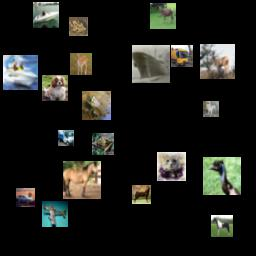airplane: (42, 201, 68, 227)
automobile: (16, 188, 35, 207)
bird: (203, 157, 241, 195)
cat: (157, 152, 186, 181)
deer: (200, 44, 235, 79), (150, 3, 176, 29), (70, 53, 92, 75)
dog: (42, 75, 68, 101), (203, 101, 219, 117)
frog: (82, 91, 111, 120), (92, 133, 114, 155), (69, 17, 88, 36)
ship: (132, 45, 170, 83), (3, 55, 38, 90), (33, 2, 59, 28)
truck: (171, 45, 193, 67), (58, 130, 74, 146)
